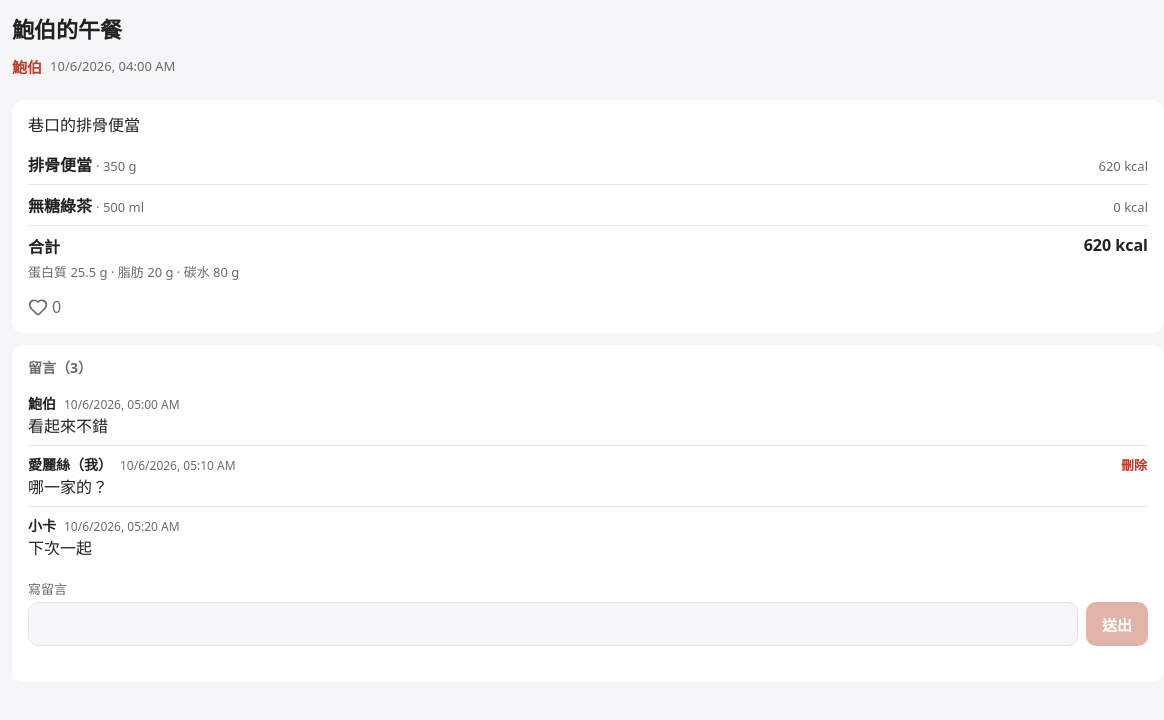
餐點頁：看不到、載入失敗 › 按讚失敗但不是 404（429）：這一餐不重抓，錯誤寫在按鈕下面
Step 1. Click the button named "讚，鮑伯的午餐" → coordinates (45, 307), box [20, 285, 69, 329]
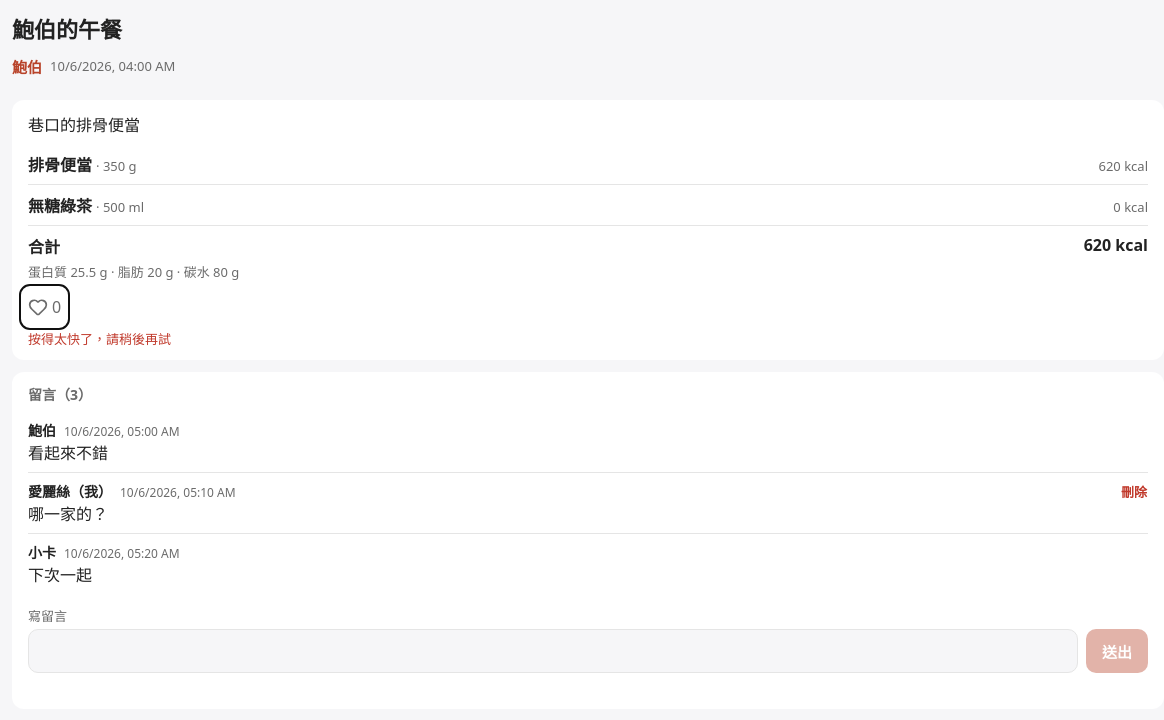
Expected: the text "看起來不錯" is shown, [28, 442, 108, 464]
Result: the message reads "按得太快了，請稍後再試" at [28, 330, 171, 348]
